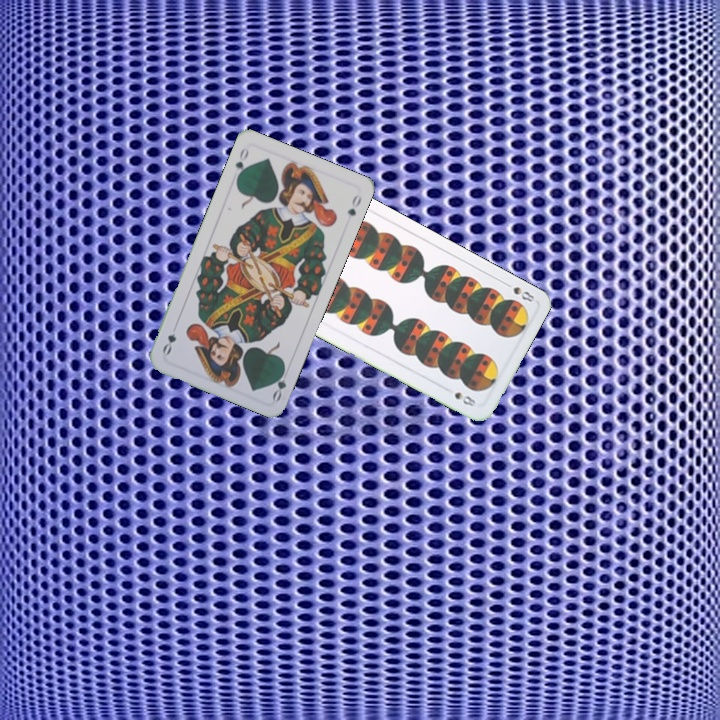GO: (268, 363, 289, 404), (231, 144, 251, 183)
S8: (500, 278, 537, 305)
